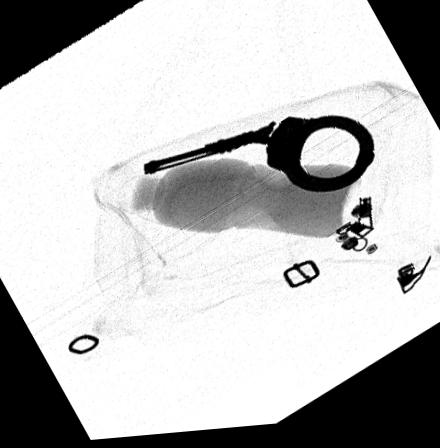HandCuffs: (143, 120, 376, 198)
